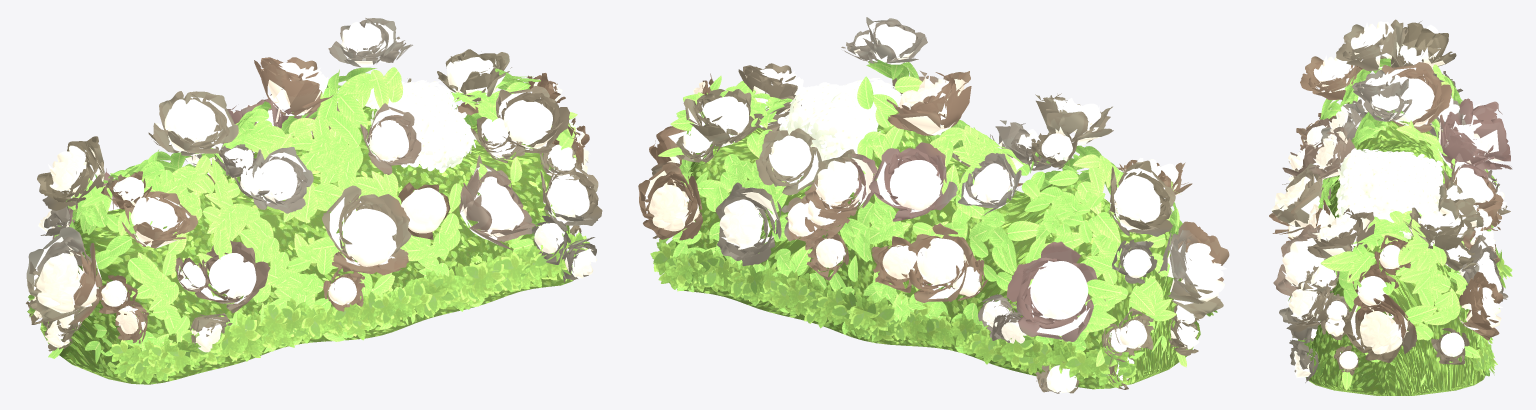
The model's file is FlowerBank_1m_sample_A_1002_v7.glb.
The picture shows the model from 3 angles, left to right: view 1: azimuth 30°, elevation 25°; view 2: azimuth 150°, elevation 25°; view 3: azimuth 270°, elevation 25°; orthographic projection. The views are drawn at different scales.
Visible parts, largest first — view 1: FlowerBank_1m; view 2: FlowerBank_1m; view 3: FlowerBank_1m.
Part boxes in pixels (x1,y1,x2,y2): FlowerBank_1m: (26, 18, 602, 384); FlowerBank_1m: (638, 17, 1229, 393); FlowerBank_1m: (1269, 19, 1512, 395).
Bounding box in the file's own units: 1.28 × 0.5736 × 0.5706.
7 materials, 6 textured.
